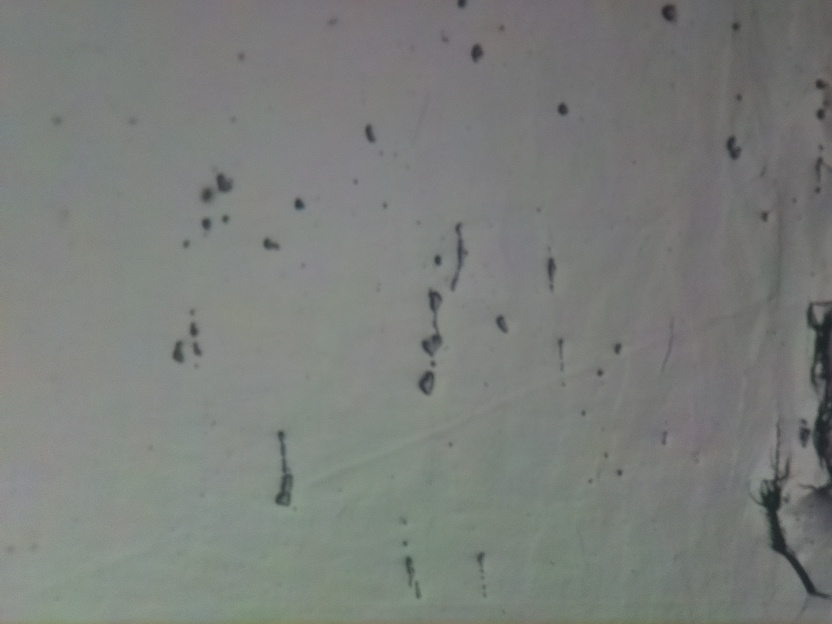crack: (759, 476, 832, 624), (802, 308, 832, 477)
